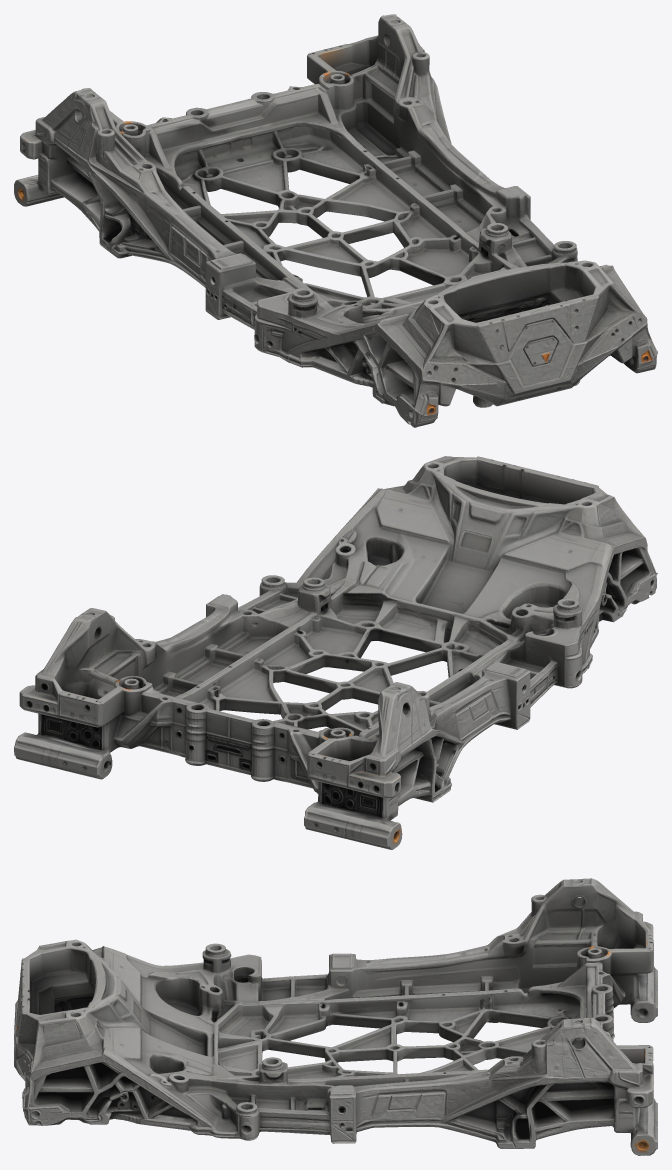
Rendered from castF.glb.
3 renders of one model, top to bottom at view 1: azimuth 30°, elevation 25°; view 2: azimuth 150°, elevation 25°; view 3: azimuth 270°, elevation 25°, orthographic. The views are drawn at different scales.
Bounding box in the file's own units: 0.6332 × 0.21 × 1.
Materials: 1 (1 with a texture image).
